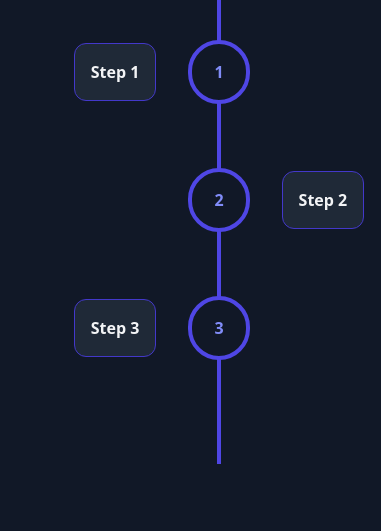
Test case: Timeline Component › clicking a step toggles its description
// Click Step 1 (left side)
What coordinates should you click on to do the following:
click the text "Step 1"
I would click on:
 (115, 72)
Its box is [91,61,140,83].
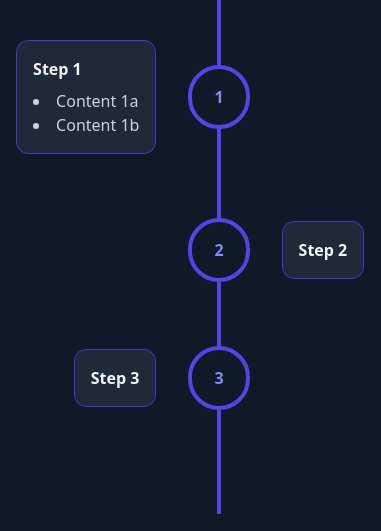
Expected: the list item "Content 1a" is shown, [56,90,138,112]
Expected: the list item "Content 1b" is shown, [56,114,139,136]
What coordinates should you click on to do the following:
click the text "Step 1"
I would click on:
 (57, 69)
Its box is [33,58,82,80].
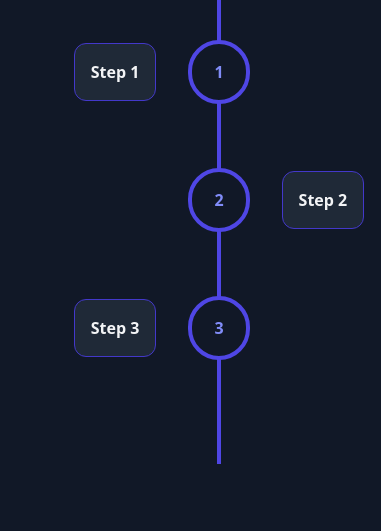
Expected: the list item "Content 1a" is gone
Expected: the list item "Content 1b" is gone
